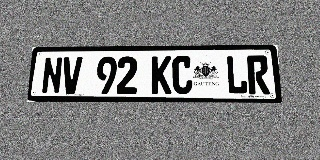2: (117, 56, 137, 94)
9: (96, 56, 117, 94)
C: (172, 56, 193, 94)
K: (151, 56, 171, 94)
L: (225, 56, 248, 94)
N: (41, 57, 63, 94)
R: (247, 55, 270, 94)
V: (61, 57, 83, 94)
